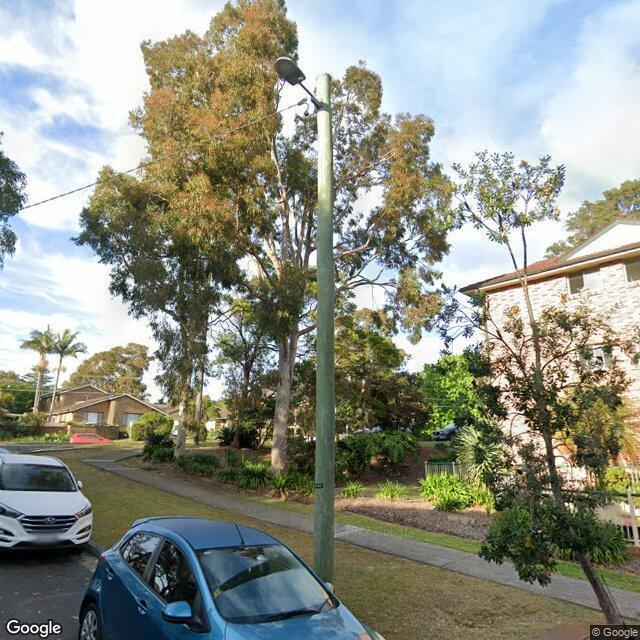streetlight: (274, 57, 324, 109)
timber-pole: (313, 74, 335, 584)
